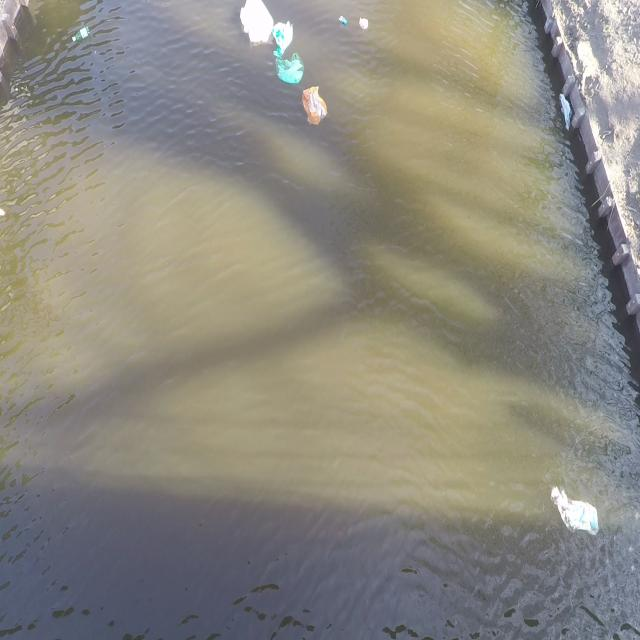Autre plastique: (238, 2, 274, 46), (338, 16, 348, 28)
Sac plastique: (272, 50, 305, 85), (272, 20, 294, 50)
